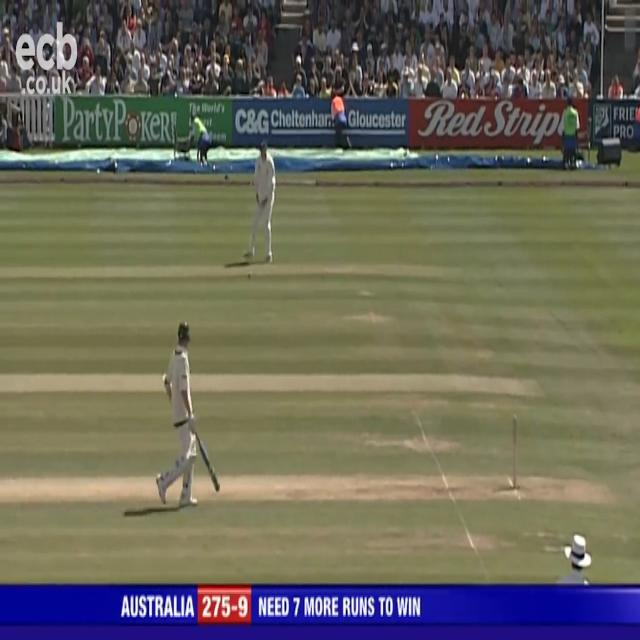ball: (247, 268, 252, 282)
